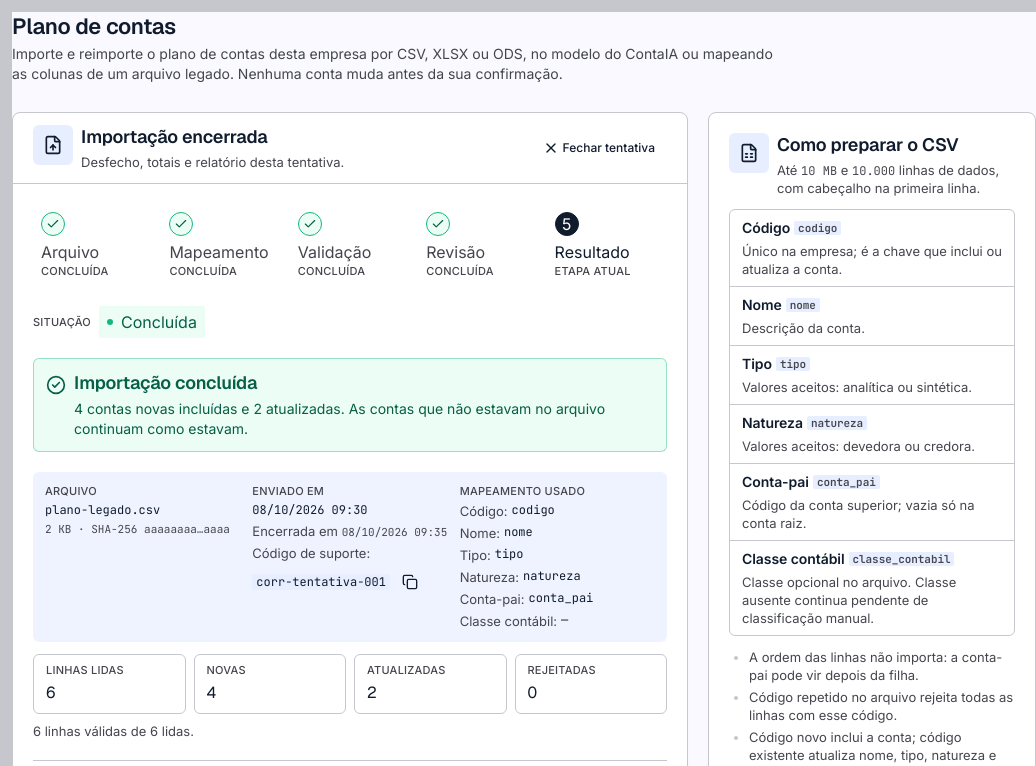
Test: foco quando o controle acionado some › "Fechar tentativa" leva o foco ao título da seção
Click the button "Fechar tentativa" at (599, 148), box [531,132,667,164]
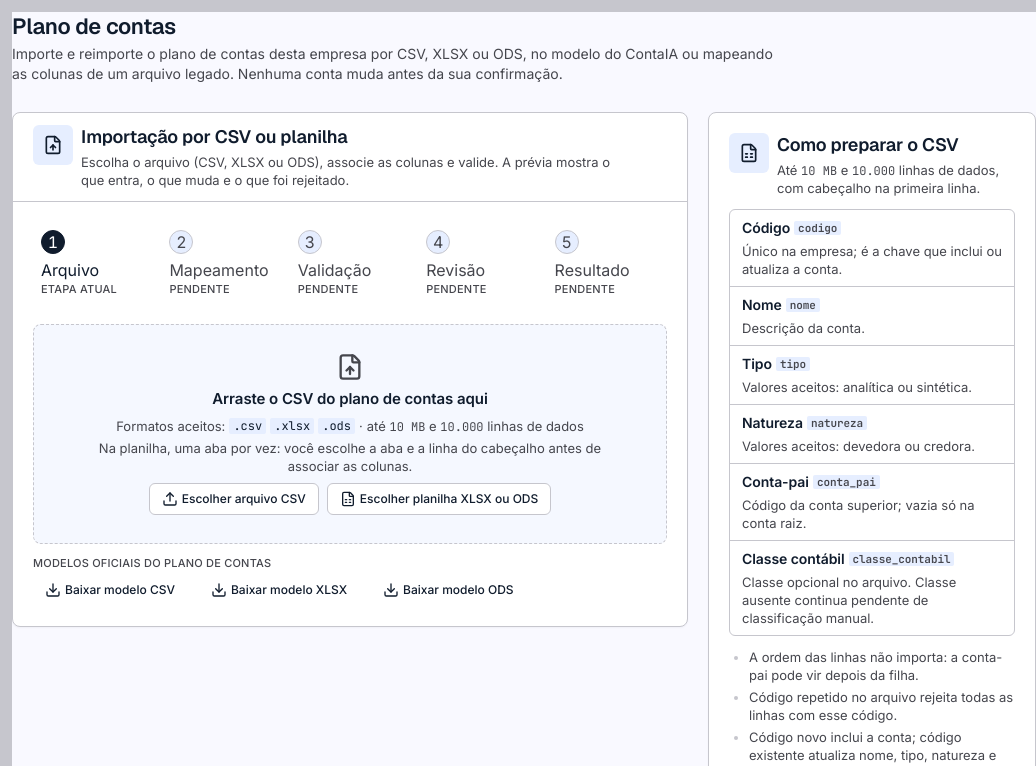
expect the heading "Importação por CSV ou planilha" is shown: met, box [81,125,347,148]
